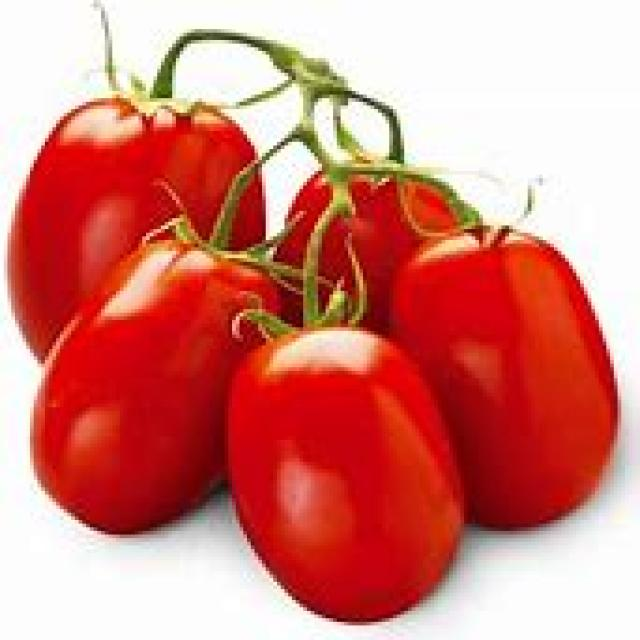Fresh_tomato: (21, 235, 288, 552), (19, 49, 255, 391), (239, 322, 495, 628), (386, 216, 600, 552), (297, 102, 450, 310)
